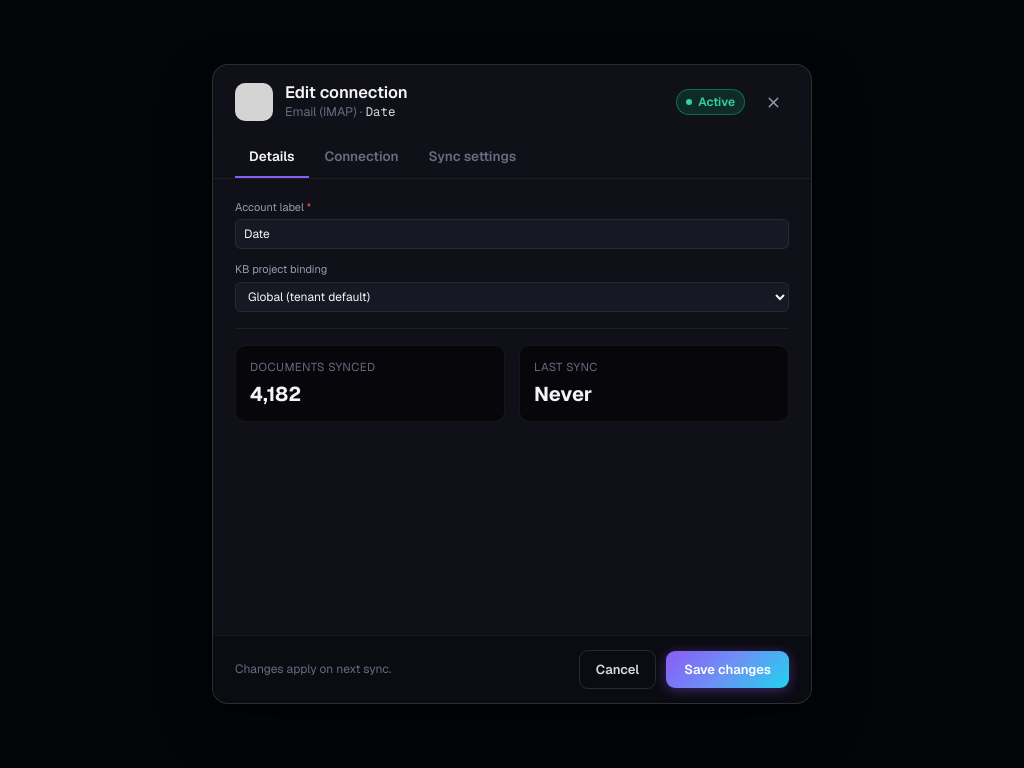
it: AccountEditModal › switches to the Connection tab and prefills the fetched host
The image size is (1024, 768).
Click the tab with test id "connector-account-7-edit-tab-connection": (362, 158) [311,138,413,178]
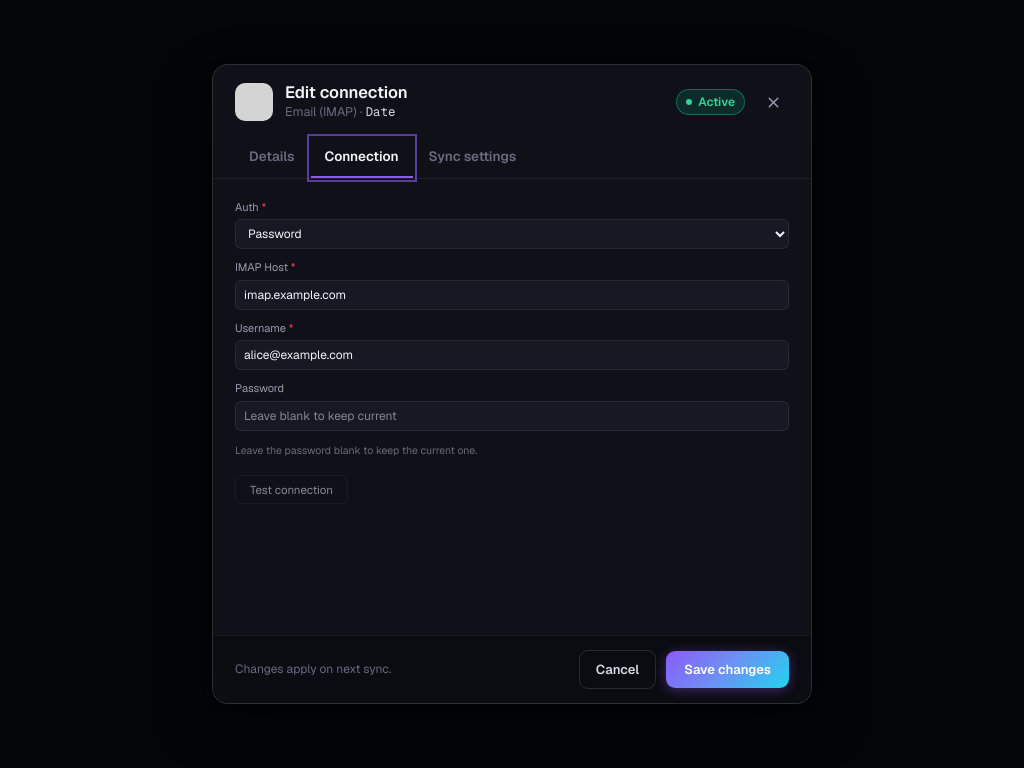
Result: the field with test id "connector-imap-form-host" holds "imap.example.com" at [235,280,789,310]
Result: the password field with test id "connector-imap-form-password" is empty at [235,401,789,431]
